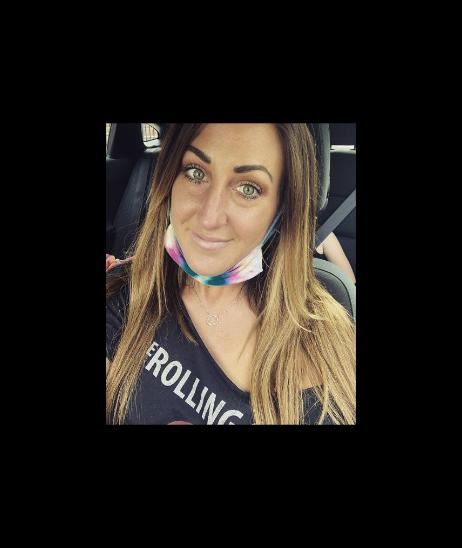mask_weared_incorrect: (174, 147, 268, 287)
